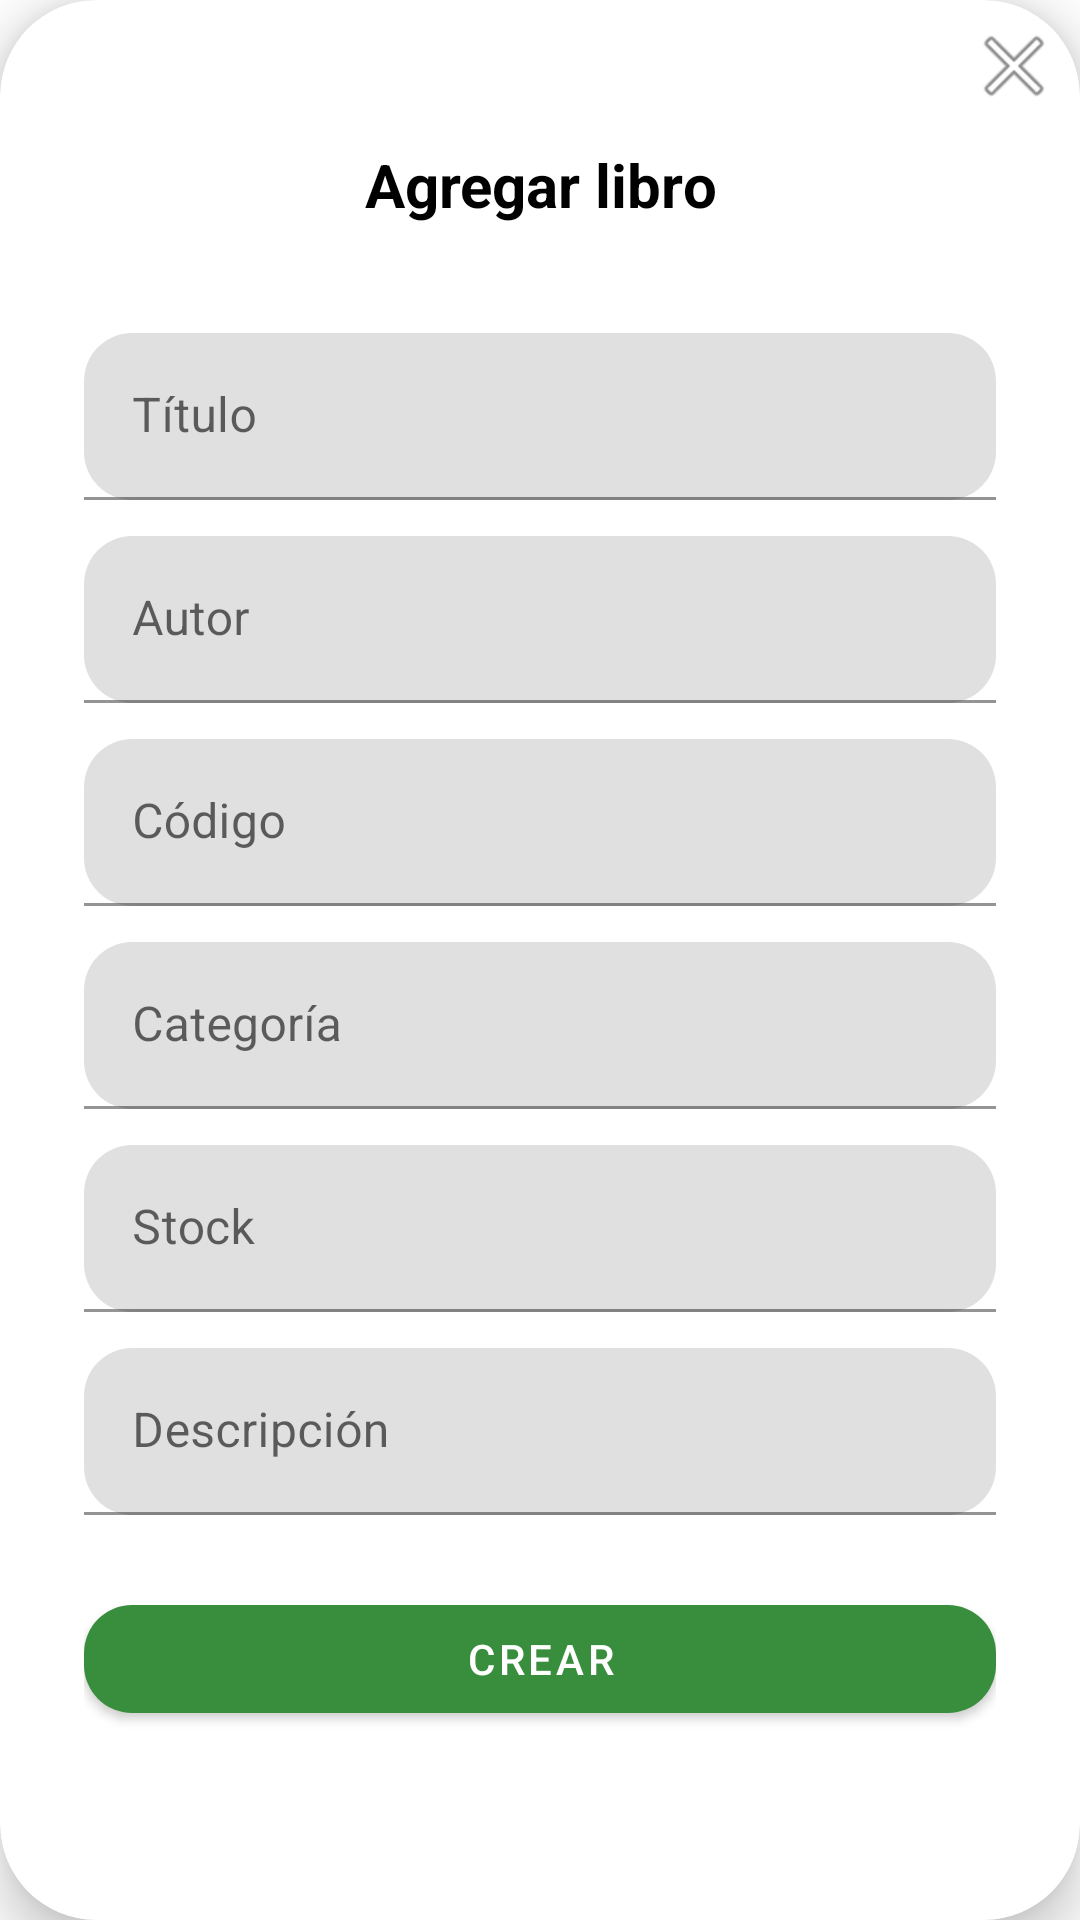

Where icons sit on this 1080x1920 app screen, as (x1, y1, x2, y2):
Cerrar: (984, 36, 1044, 96)
